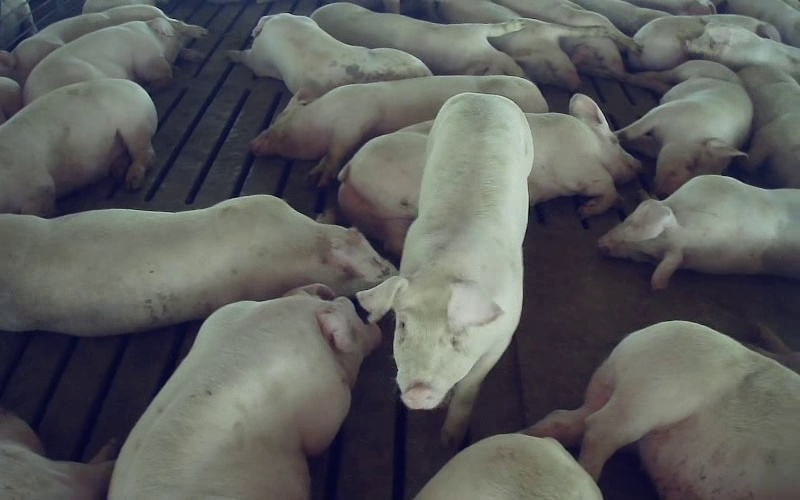pig: (358, 93, 533, 442), (110, 285, 379, 499), (0, 195, 394, 335), (526, 322, 799, 499), (250, 76, 547, 186), (599, 176, 799, 288), (0, 79, 156, 214), (617, 60, 752, 196), (228, 13, 431, 98), (23, 18, 205, 104), (311, 3, 524, 75), (436, 0, 605, 90), (0, 4, 165, 84), (494, 0, 635, 78), (628, 14, 780, 70), (738, 66, 799, 187), (687, 25, 799, 82)
